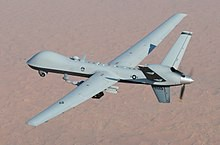maybay_khongnguoilai: (18, 15, 195, 123)
